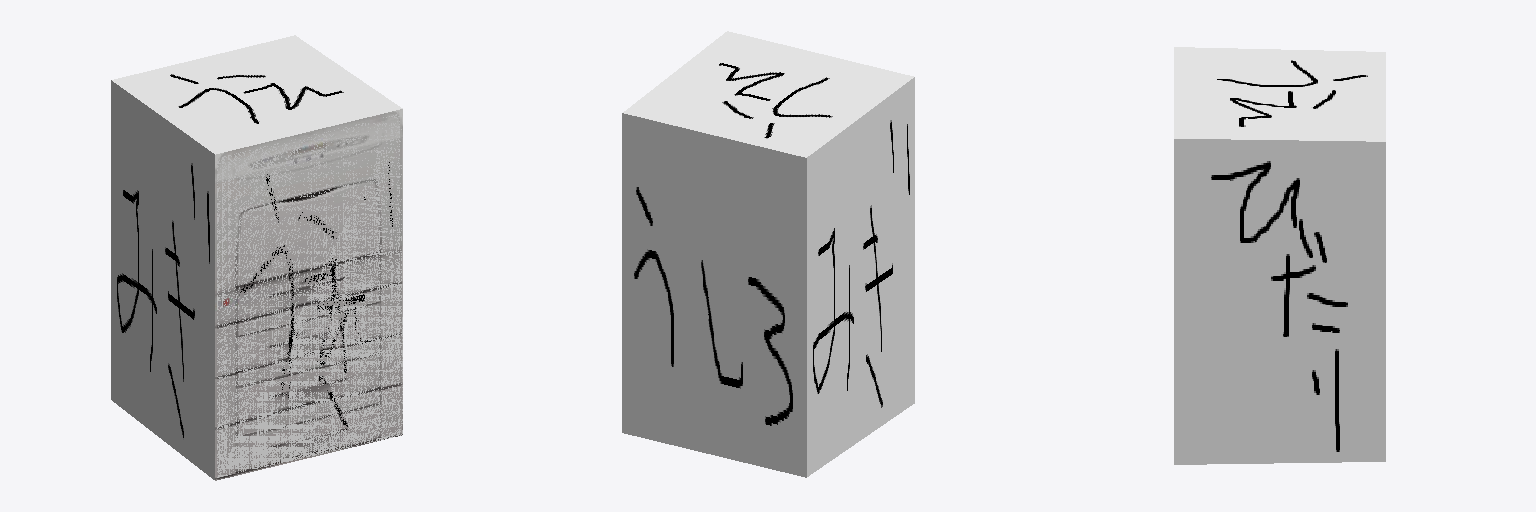
The picture shows the model from 3 angles: view 1: azimuth 30°, elevation 25°; view 2: azimuth 150°, elevation 25°; view 3: azimuth 270°, elevation 25°; orthographic projection.
Visible parts, largest first — view 1: default; view 2: default; view 3: default.
Boxes of the visible parts, <box> form: default: <box>111,35,402,480</box>; default: <box>622,31,914,477</box>; default: <box>1174,47,1385,464</box>.
Size of the model in its own units: 2.04 by 3.39 by 2.
6 materials, 5 textured.